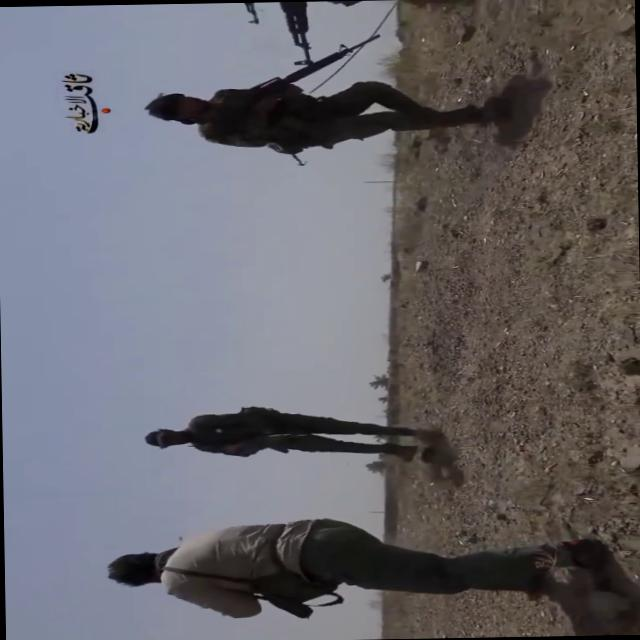long weapon: (225, 28, 394, 122), (208, 418, 320, 452)
